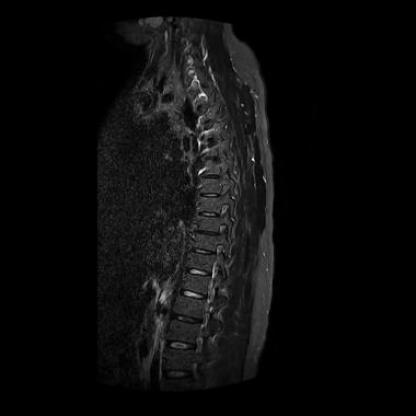Demyelinating Plaquesrotation: (198, 209, 221, 221), (197, 137, 217, 147)
Hemangiomatarotation: (187, 253, 213, 272), (194, 123, 214, 136)
